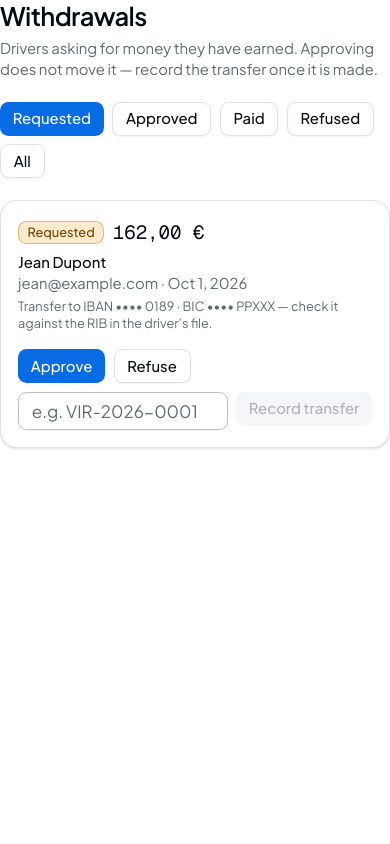
Scenario: WithdrawalQueue — a request that moved on meanwhile › shows a refusal bounced by a colleague's approval where the request now is
Click the button "Refuse".
click(152, 366)  # box left=114, top=350, right=190, bottom=384
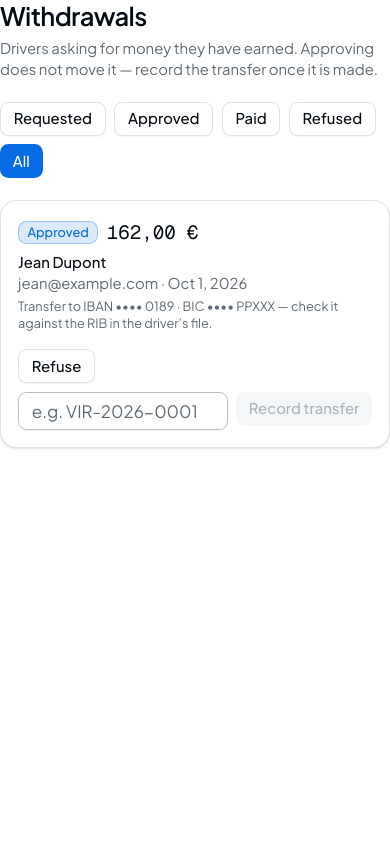
expect the button "Approved" is shown: met, box left=114, top=102, right=213, bottom=136
Click the button "Refuse".
click(56, 366)  # box left=18, top=350, right=95, bottom=384
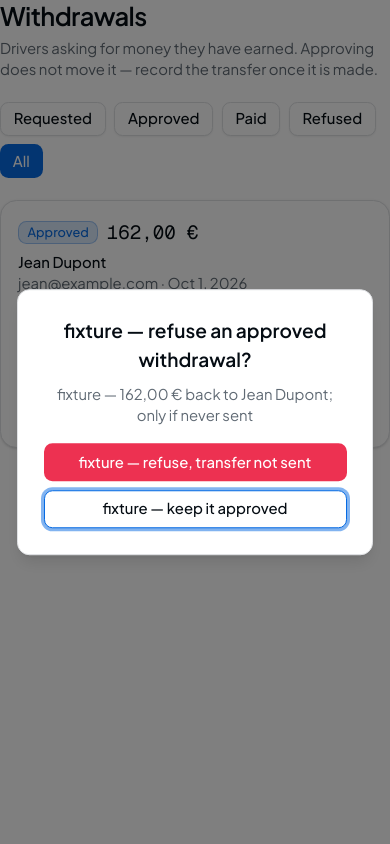
expect the dialog is shown: met, box left=17, top=289, right=373, bottom=555
